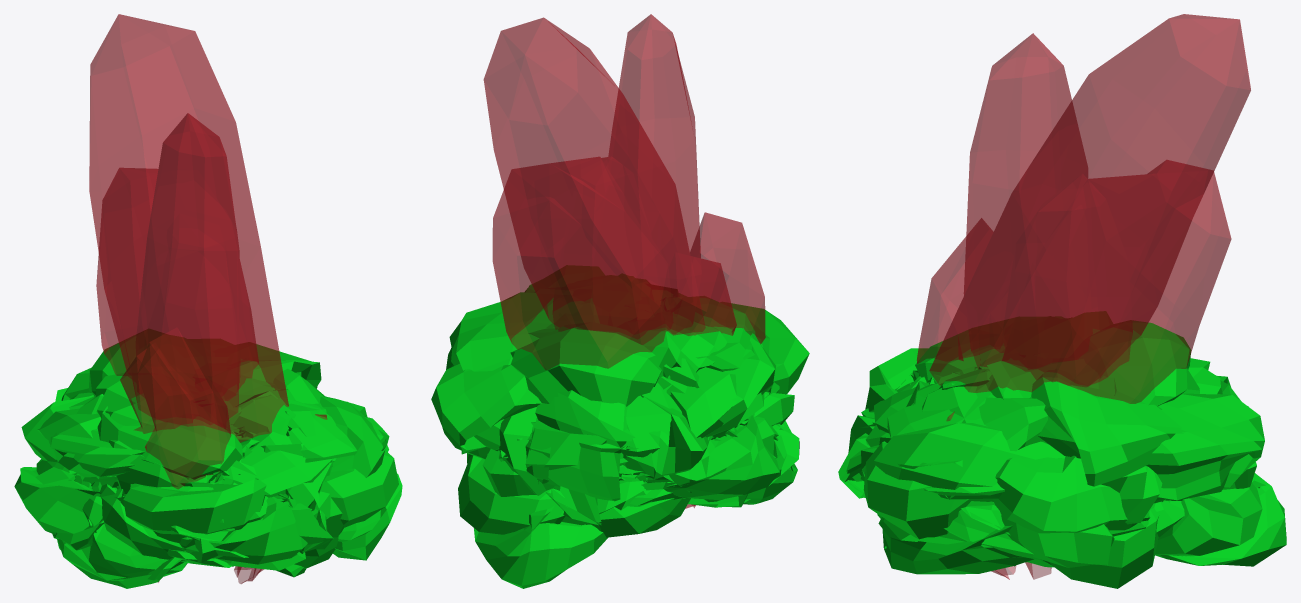
The model's file is crystal11.obj.
3 renders of one model, left to right at view 1: azimuth 30°, elevation 25°; view 2: azimuth 150°, elevation 25°; view 3: azimuth 270°, elevation 25°, orthographic. The views are drawn at different scales.
Parts seen in each view (by area): view 1: Circle, Cube.001; view 2: Cube.001, Circle; view 3: Circle, Cube.001.
Part boxes in pixels (x1,y1,x2,y2): Circle: (89,14,327,583); Cube.001: (14,335,402,588); Cube.001: (431,284,809,588); Circle: (483,14,765,508); Circle: (917,14,1250,579); Cube.001: (838,321,1286,588).
Bounding box in the file's own units: 2.13 × 3.22 × 2.34.
